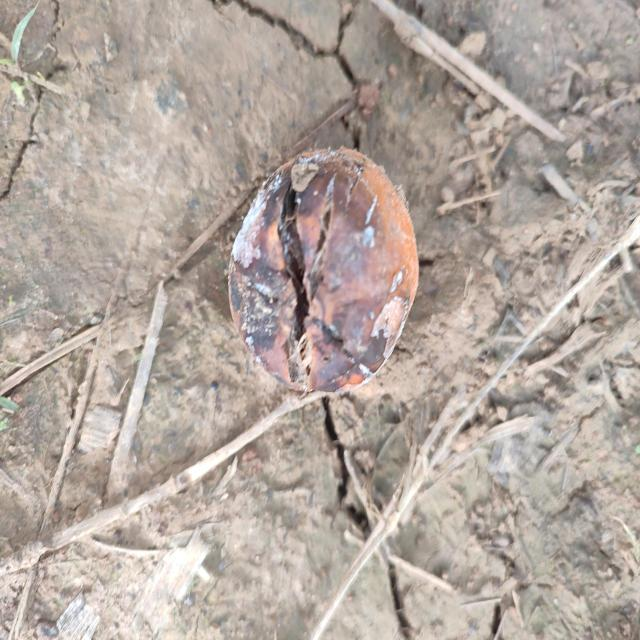damaged: (225, 148, 420, 396)
